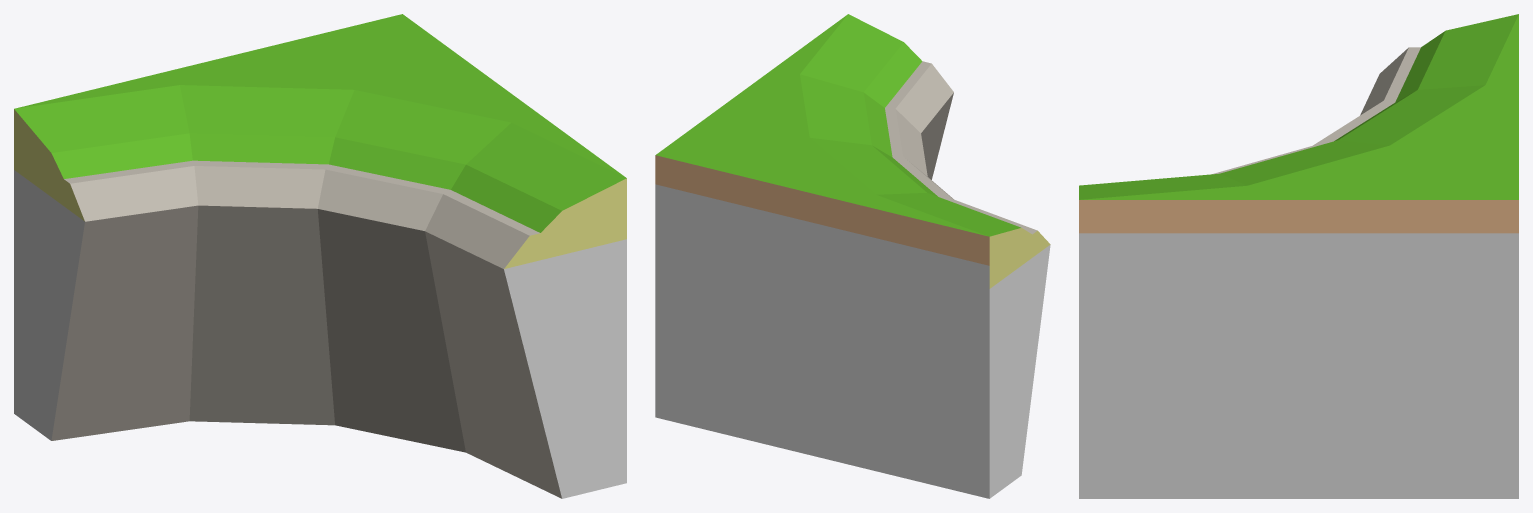
File: Basic_Curve_Inner_3x3_Top.glb
3 renders of one model, left to right at view 1: azimuth 30°, elevation 25°; view 2: azimuth 150°, elevation 25°; view 3: azimuth 270°, elevation 25°, orthographic. The views are drawn at different scales.
Visible parts, largest first — view 1: Basic_Curve_Inner_3x3_Top; view 2: Basic_Curve_Inner_3x3_Top; view 3: Basic_Curve_Inner_3x3_Top.
Part boxes in pixels (x1,y1,x2,y2): Basic_Curve_Inner_3x3_Top: (14,14,626,498); Basic_Curve_Inner_3x3_Top: (655,14,1050,498); Basic_Curve_Inner_3x3_Top: (1079,14,1518,498).
Bounding box in the file's own units: 300 × 225 × 300.
